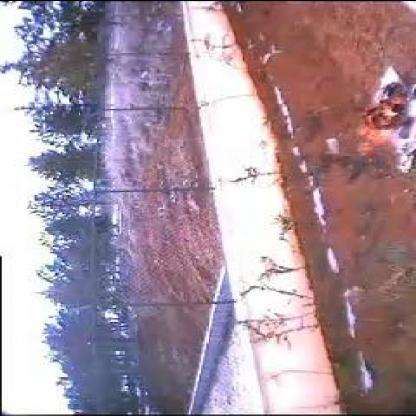foggia-v2-map80-epoch100 - v1 4323: (356, 96, 408, 150)
